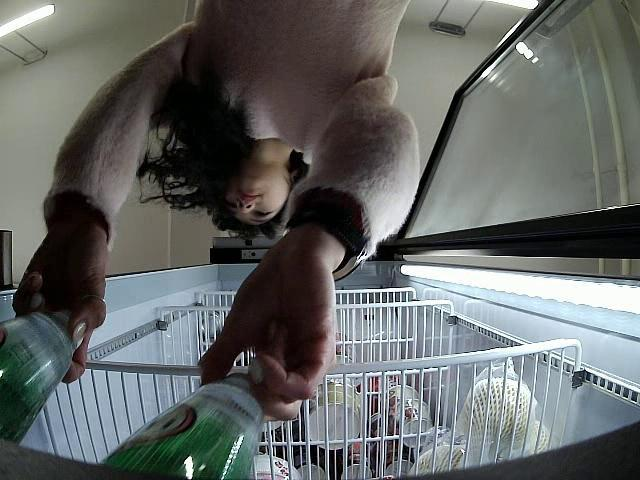18_trevi: (100, 367, 267, 480), (0, 309, 83, 450)
